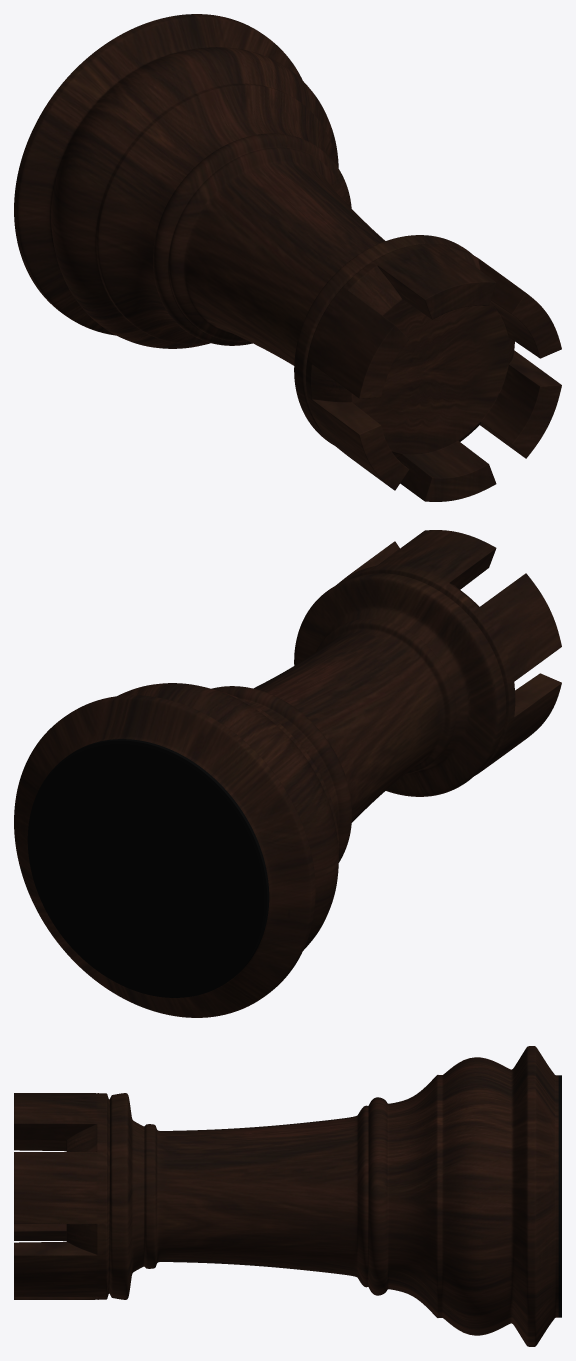
File: rook.glb
3 renders of one model, top to bottom at view 1: azimuth 30°, elevation 25°; view 2: azimuth 150°, elevation 25°; view 3: azimuth 270°, elevation 25°, orthographic. The views are drawn at different scales.
Visible parts, largest first — view 1: Node1; view 2: Node1; view 3: Node1.
Boxes of the visible parts, left/top/right/bottom form: Node1: left=14, top=14, right=561, bottom=501; Node1: left=14, top=530, right=561, bottom=1017; Node1: left=14, top=1046, right=561, bottom=1346.
Size of the model in its own units: 4.64 by 4.64 by 8.46.
Materials: 1 (1 with a texture image).
